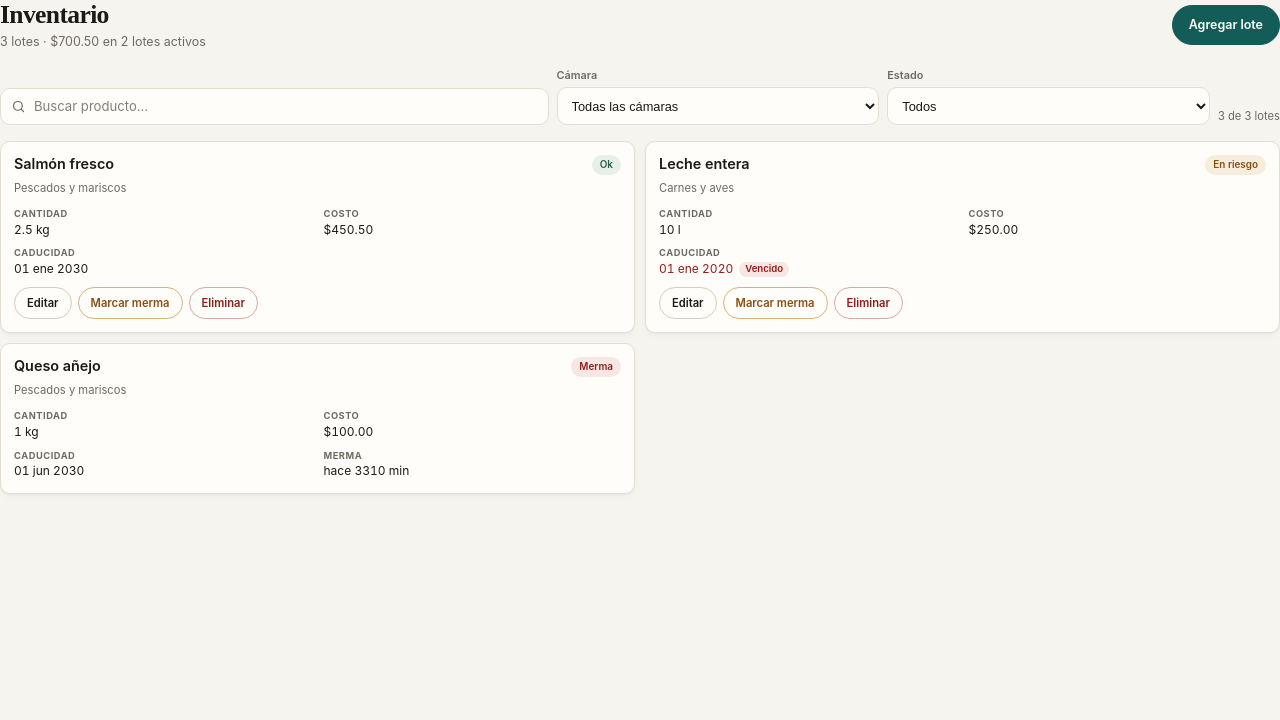
Test: Inventario › muestra el 409 al borrar una merma sin cerrar la confirmación
Expected: the heading "Inventario" is shown, [0,0,109,29]
Expected: the heading "Salmón fresco" is shown, [14,155,114,174]
Click the button with aria-label "Eliminar lote Salmón fresco".
click(223, 303)  # box [188,287,258,319]
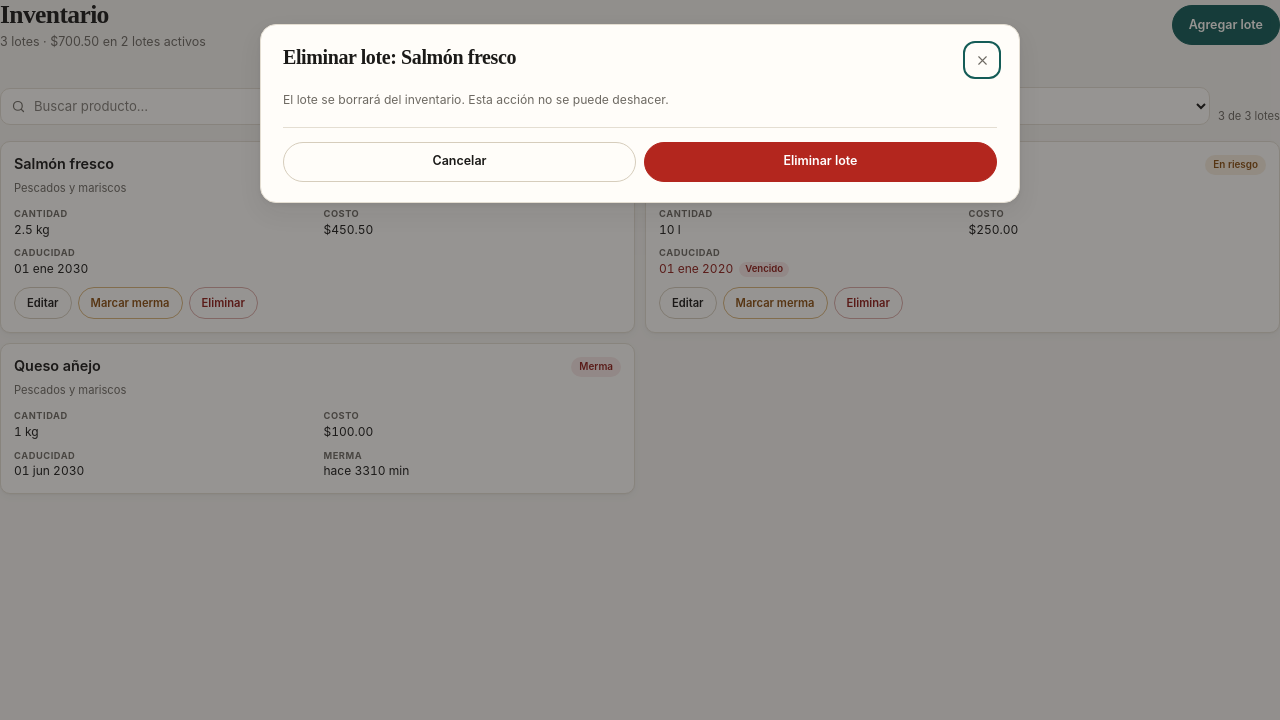
Click the button "Eliminar lote".
click(820, 162)  # box [644,142,997,182]
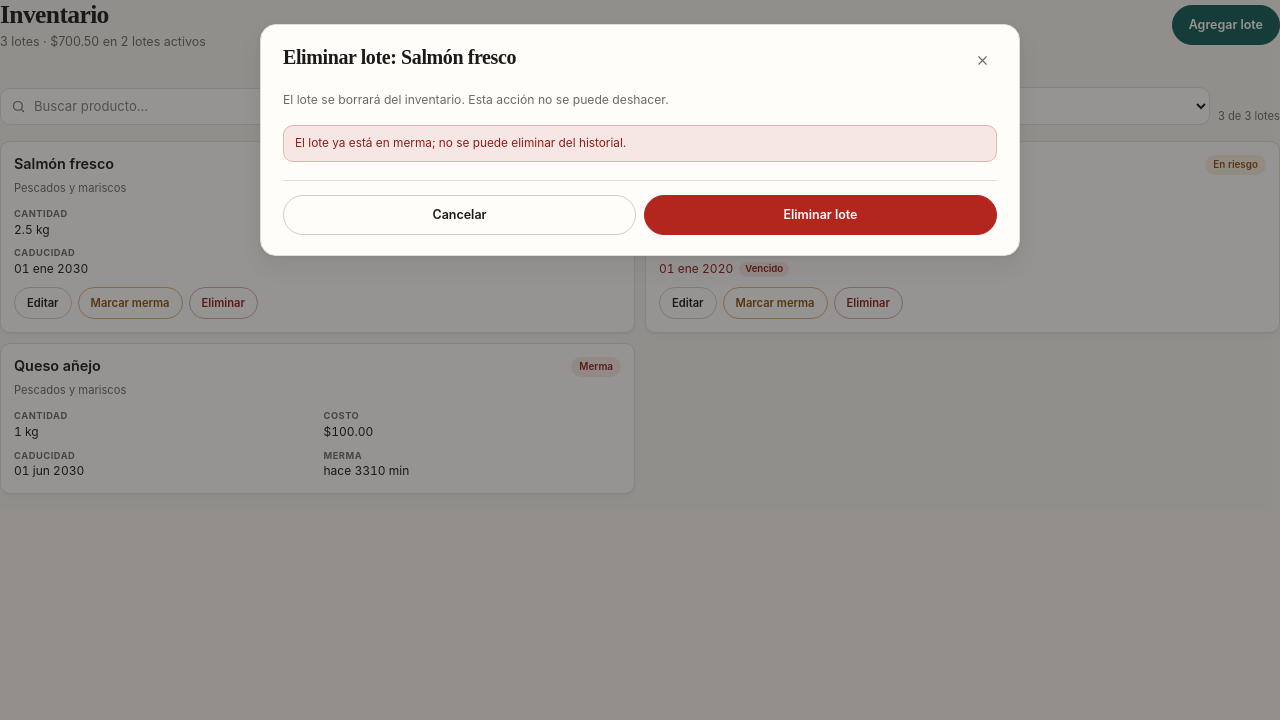
Expected: the dialog "Eliminar lote: Salmón fresco" is shown, [260,24,1020,256]
Expected: the text "El lote ya está en merma; no se puede eliminar del historial." is shown, [283,125,997,162]
